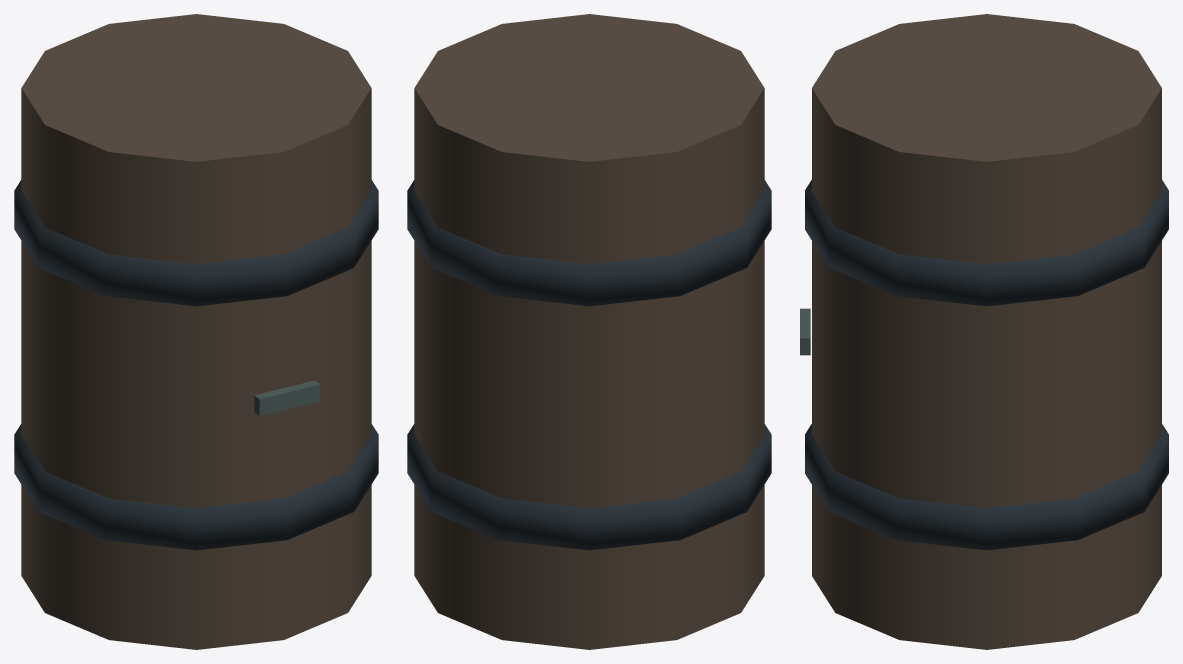
File: drum-3.glb
3 renders of one model, left to right at view 1: azimuth 30°, elevation 25°; view 2: azimuth 150°, elevation 25°; view 3: azimuth 270°, elevation 25°, orthographic.
Visible parts, largest first — view 1: drum/2/KR-230-3; view 2: drum/2/KR-230-3; view 3: drum/2/KR-230-3.
Boxes of the visible parts, x1=… form: drum/2/KR-230-3: x1=14, y1=14, x2=378, y2=649; drum/2/KR-230-3: x1=407, y1=14, x2=771, y2=649; drum/2/KR-230-3: x1=800, y1=14, x2=1168, y2=649.
Size of the model in its own units: 0.676 by 1 by 0.685.
